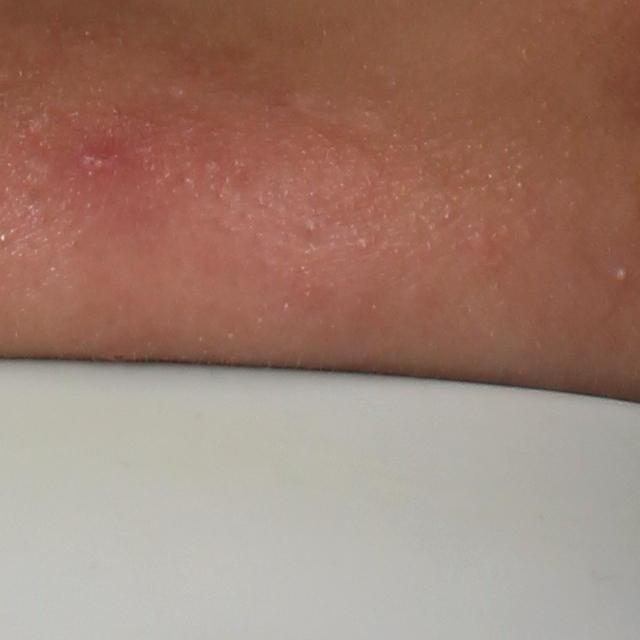comedo: (615, 265, 629, 284), (304, 219, 318, 234)
papule: (82, 143, 112, 176)
